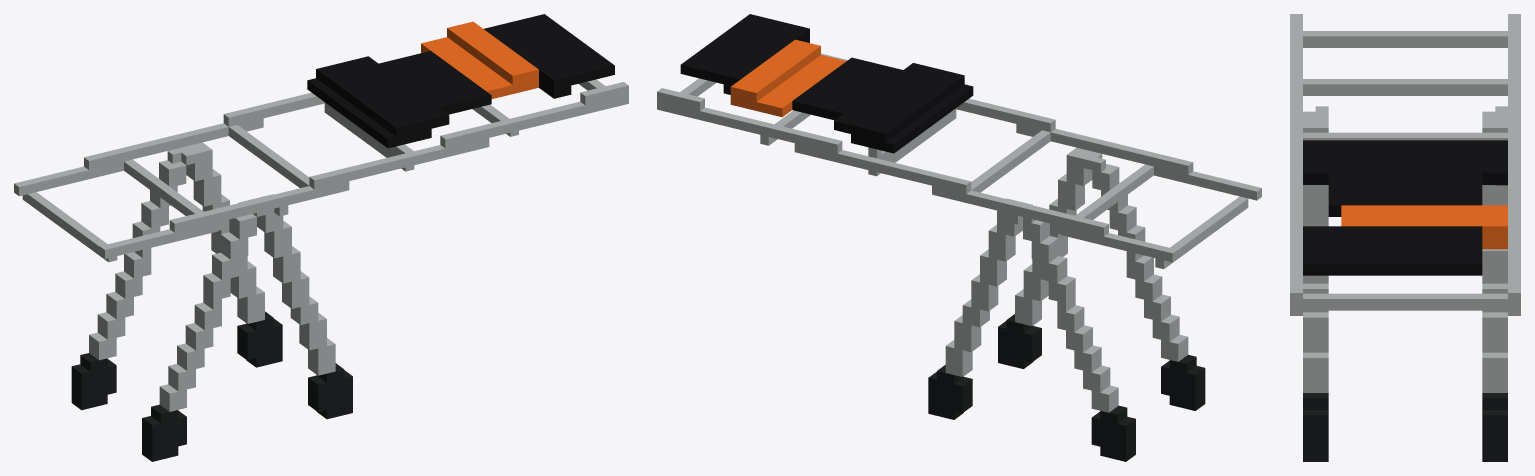
File: abandoned_ambulance_stretcher.glb
3 views of the same model, side by side, from view 1: azimuth 30°, elevation 25°; view 2: azimuth 150°, elevation 25°; view 3: azimuth 270°, elevation 25° (orthographic). The views are drawn at different scales.
Visible parts, largest first — view 1: body:compound; view 2: body:compound; view 3: body:compound.
Part boxes in pixels (box(x1,y1,x2,y2)): body:compound: box(14, 14, 628, 461); body:compound: box(657, 14, 1261, 461); body:compound: box(1290, 14, 1520, 461).
Bounding box in the file's own units: 1.88 × 0.9688 × 0.5625.
